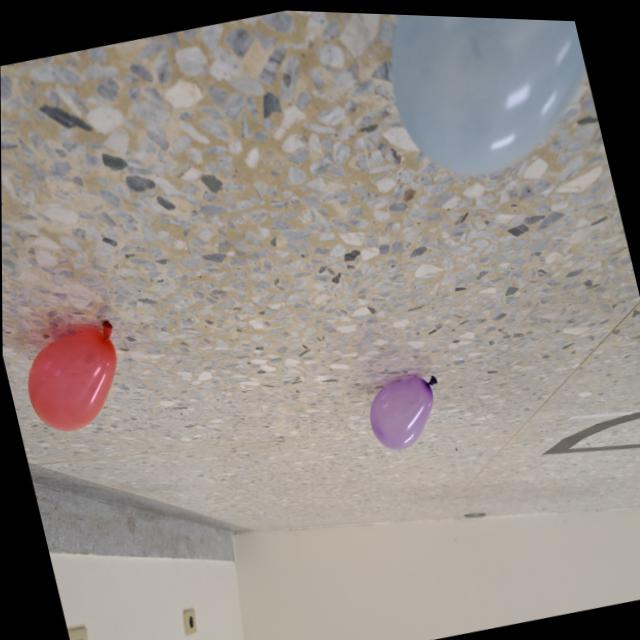other: (369, 11, 606, 193), (361, 363, 453, 452)
red: (13, 314, 134, 440)
